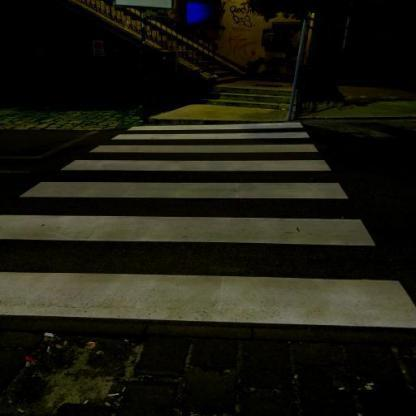crosswalk: (16, 157, 355, 209), (109, 122, 313, 140)
